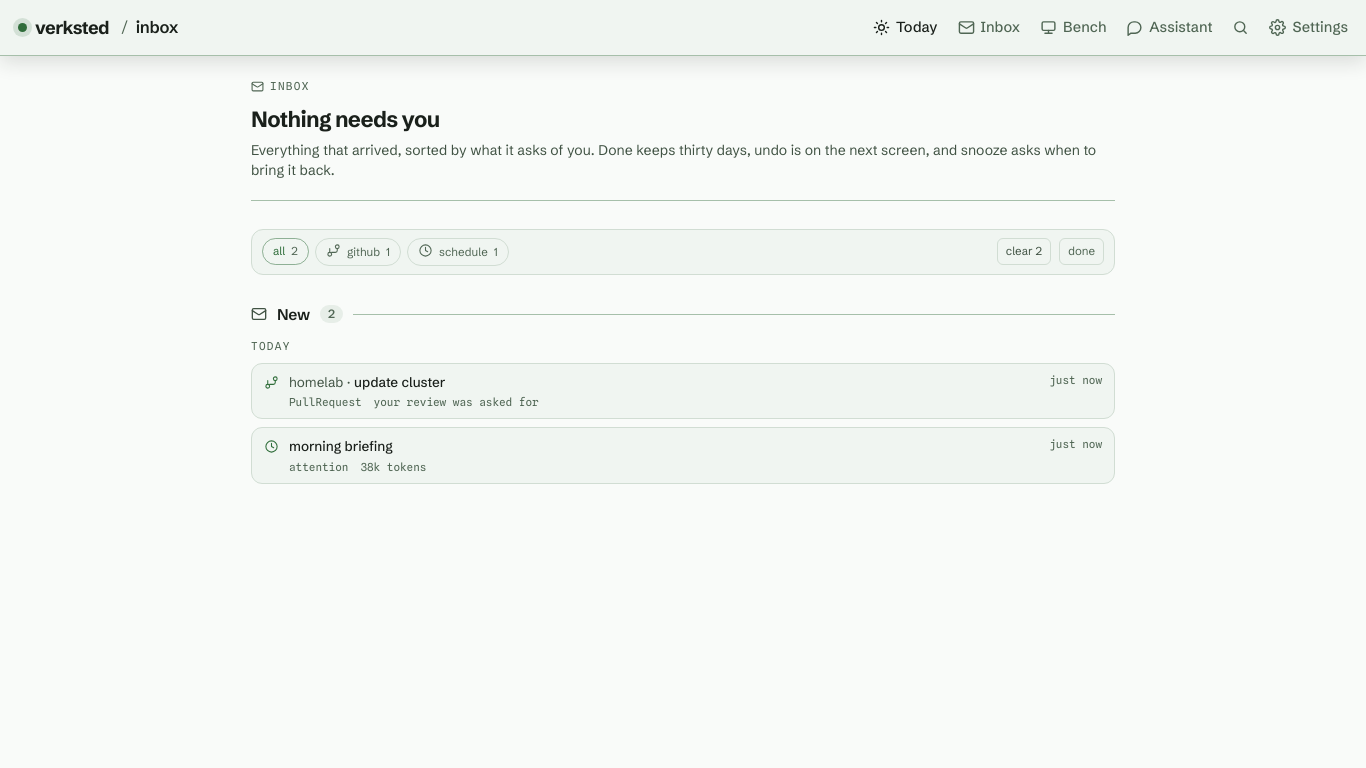
Scenario: an opened row › shows a run's time and leaves out the tokens its row already says
Click the button "morning briefing attention 38k tokens" at [341, 446], box [289,436,1039,475]
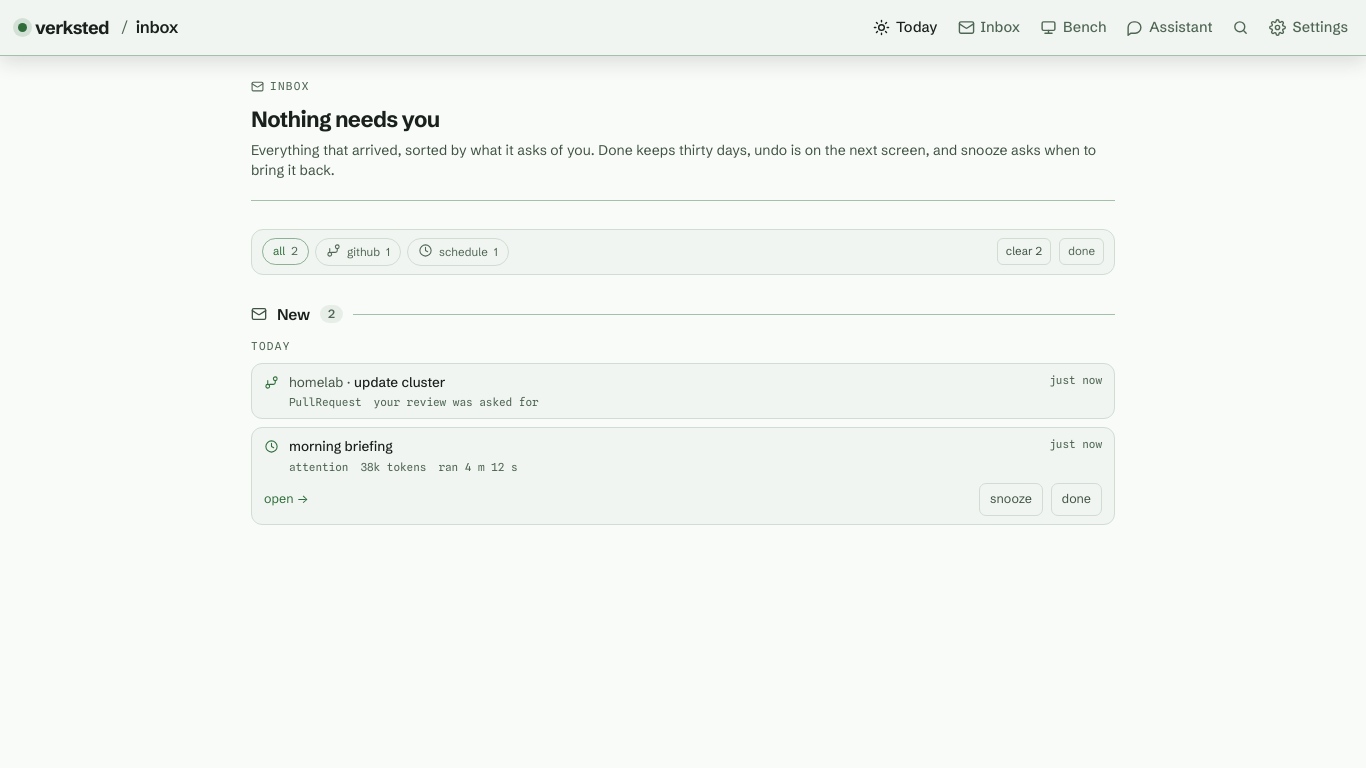
expect the text "ran 4 m 12 s" is shown: met, box [438,458,518,475]
